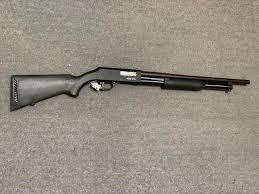weapon: (9, 65, 250, 111)
